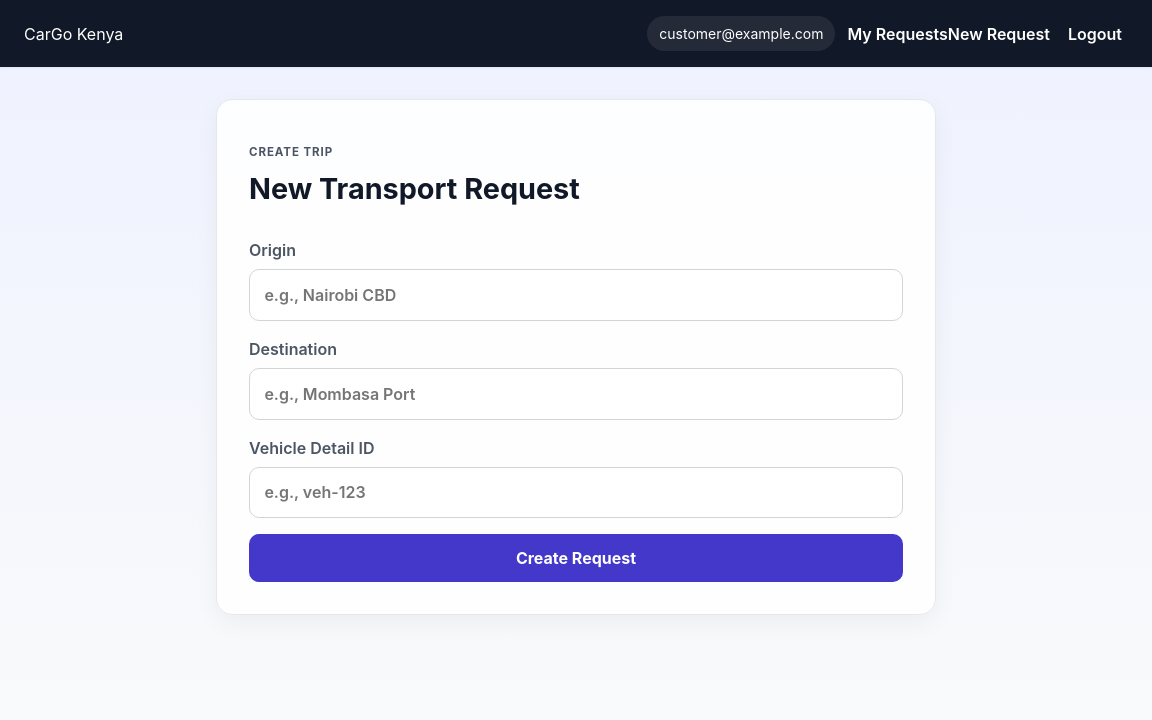
Test: customer foundation workflow › validates origin field when creating a transport request
This screenshot has width=1152, height=720.
Step 1. Click the button "Create Request" → [576, 558], box x1=249 y1=534 x2=903 y2=582
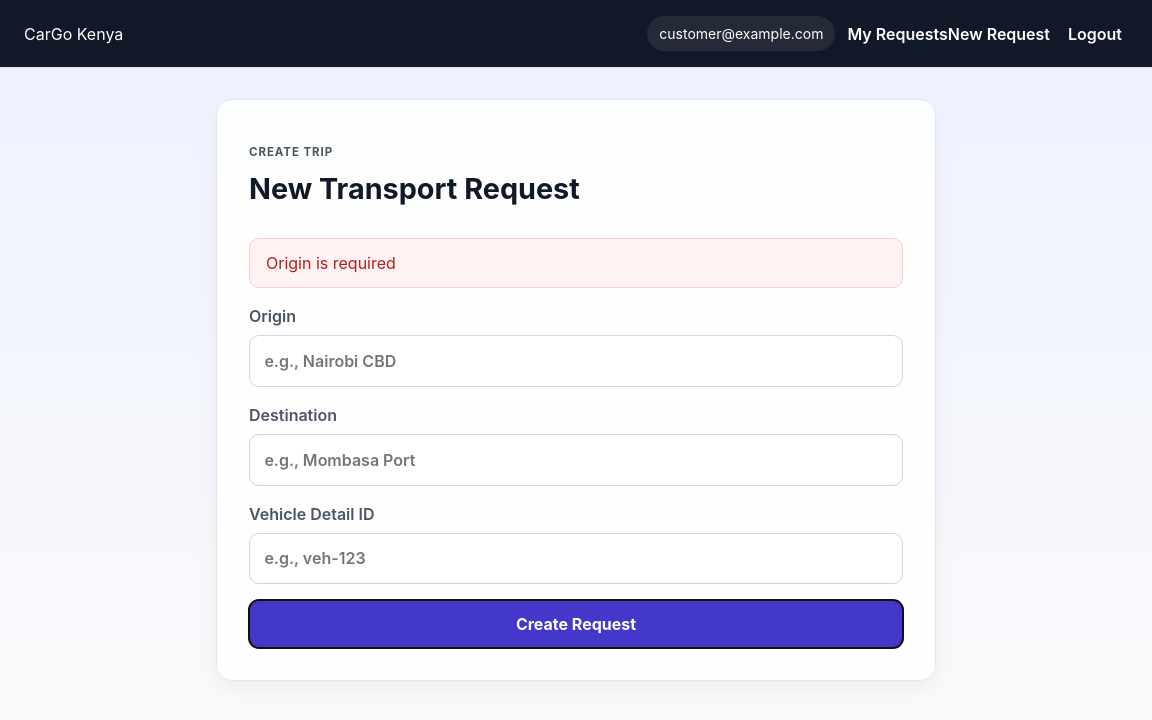
Expected: the text "Origin is required" is shown, x1=249 y1=238 x2=903 y2=288
